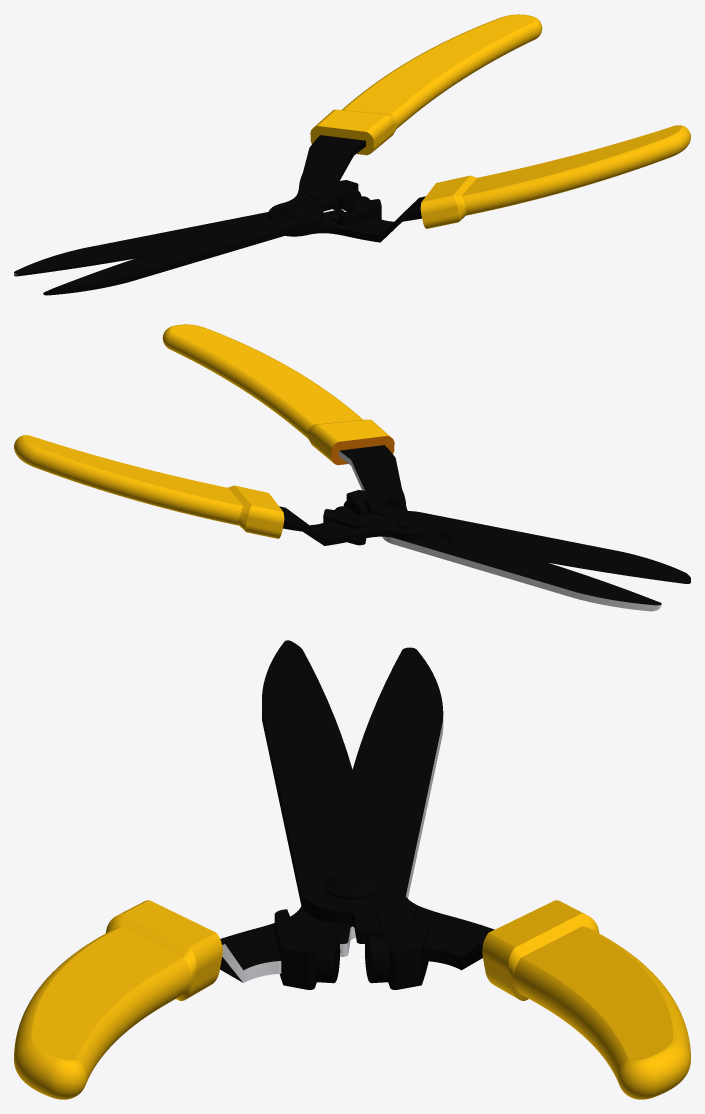
The model's file is shears_02_origin_gt_1.dae.
3 views of the same model, one above another, from view 1: azimuth 30°, elevation 25°; view 2: azimuth 150°, elevation 25°; view 3: azimuth 270°, elevation 25° (orthographic). The views are drawn at different scales.
Visible parts, largest first — view 1: group_9, group_11, group_10 (×2), group_1 (×2), group_4, group_7; view 2: group_11 (×2), group_9, group_10, group_1 (×2), group_4, group_7; view 3: group_10, group_9, group_11, group_1 (×2), group_7, group_4, group_0, group_3, group_6.
Part boxes in pixels (x1,y1,x2,y2): group_9: [310, 14, 542, 155]; group_11: [420, 125, 690, 228]; group_10 (×2): [43, 135, 365, 295]; group_1 (×2): [14, 196, 425, 276]; group_4: [329, 199, 381, 225]; group_7: [305, 180, 358, 210]; group_11 (×2): [162, 324, 394, 465]; group_9: [14, 435, 284, 538]; group_10: [283, 511, 690, 583]; group_1 (×2): [339, 445, 661, 611]; group_4: [346, 490, 399, 515]; group_7: [323, 509, 375, 545]; group_10: [262, 640, 494, 970]; group_9: [482, 900, 690, 1099]; group_11: [14, 900, 222, 1099]; group_1 (×2): [220, 647, 443, 982]; group_7: [376, 909, 430, 989]; group_4: [274, 909, 328, 989]; group_0: [324, 873, 380, 899]; group_3: [315, 935, 340, 983]; group_6: [365, 935, 389, 983].
Size of the model in its own units: 7.33 by 3.75 by 0.9913.
Materials: 6 (1 with a texture image).
